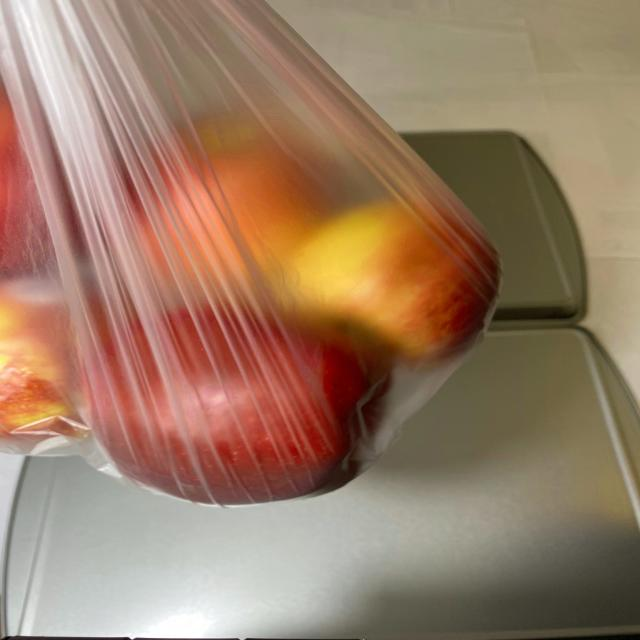apple: (0, 87, 500, 511)
